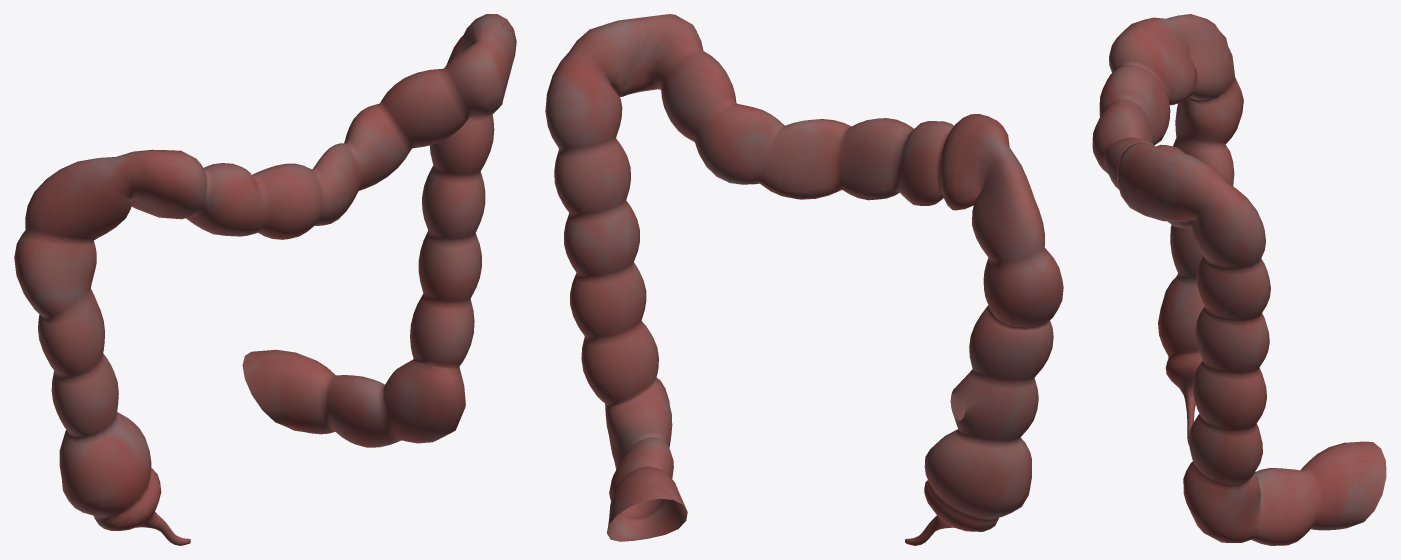
File: largeintestine.glb
The picture shows the model from 3 angles, left to right: view 1: azimuth 30°, elevation 25°; view 2: azimuth 150°, elevation 25°; view 3: azimuth 270°, elevation 25°; orthographic projection. The views are drawn at different scales.
Visible parts, largest first — view 1: large; view 2: large; view 3: large.
Boxes of the visible parts, x1,y1,x2,y2 form: large: (14, 14, 516, 545); large: (545, 14, 1063, 545); large: (1092, 14, 1386, 545).
Size of the model in its own units: 1.49 by 1.3 by 0.8104.
Materials: 1 (1 with a texture image).
